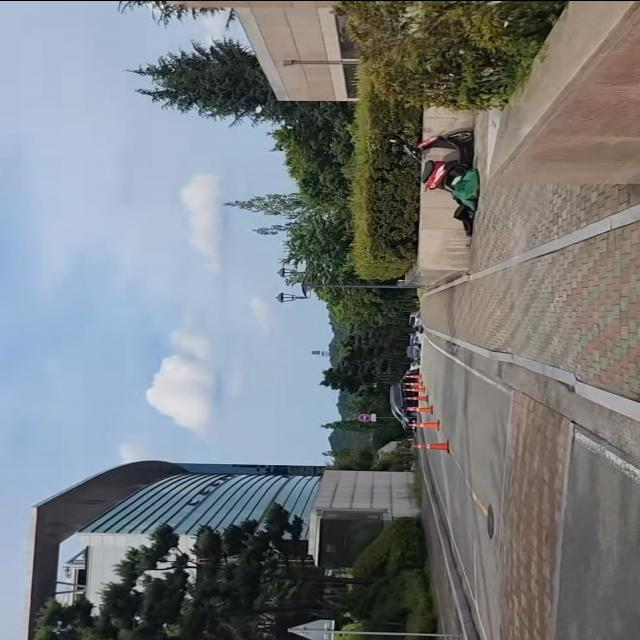obstacle: (281, 617, 456, 640), (404, 438, 452, 452)
road: (418, 335, 640, 640)
sidewalk: (423, 192, 640, 413), (416, 456, 471, 640)
